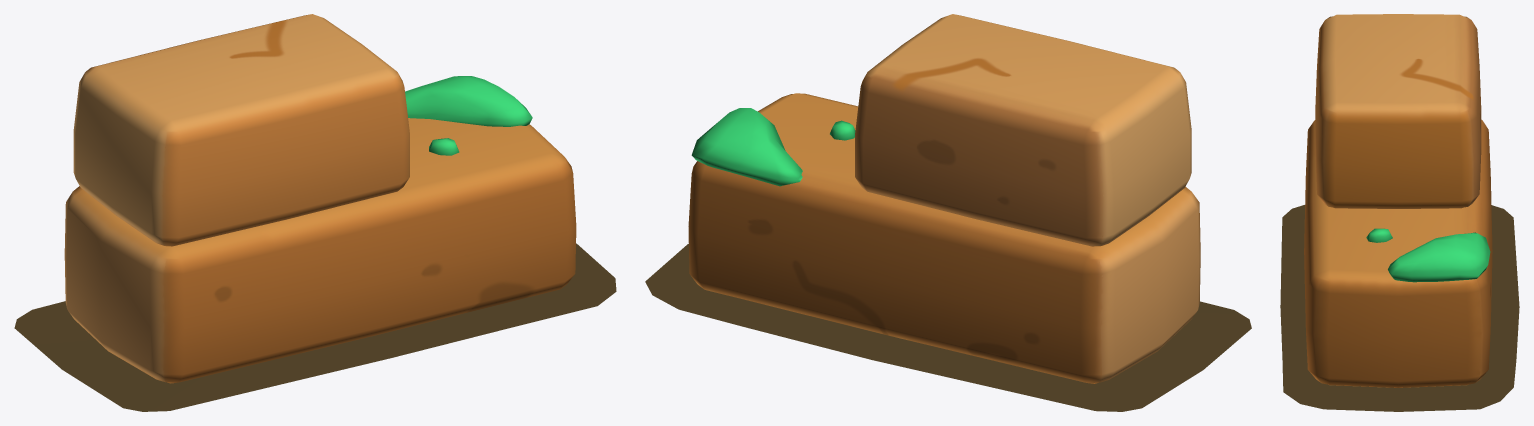
File: E_RockWallB.fbx
3 views of the same model, side by side, from view 1: azimuth 30°, elevation 25°; view 2: azimuth 150°, elevation 25°; view 3: azimuth 270°, elevation 25° (orthographic). The views are drawn at different scales.
Parts seen in each view (by area): view 1: E_RockWallB_rock, E_RockWallB_shadow; view 2: E_RockWallB_rock, E_RockWallB_shadow; view 3: E_RockWallB_rock, E_RockWallB_shadow.
Part boxes in pixels (box(x1,y1,x2,y2)): E_RockWallB_rock: box(64, 14, 576, 383); E_RockWallB_shadow: box(14, 243, 616, 411); E_RockWallB_rock: box(688, 14, 1200, 383); E_RockWallB_shadow: box(645, 243, 1251, 411); E_RockWallB_rock: box(1304, 14, 1492, 387); E_RockWallB_shadow: box(1280, 205, 1519, 411).
Bounding box in the file's own units: 215 × 103 × 103.
